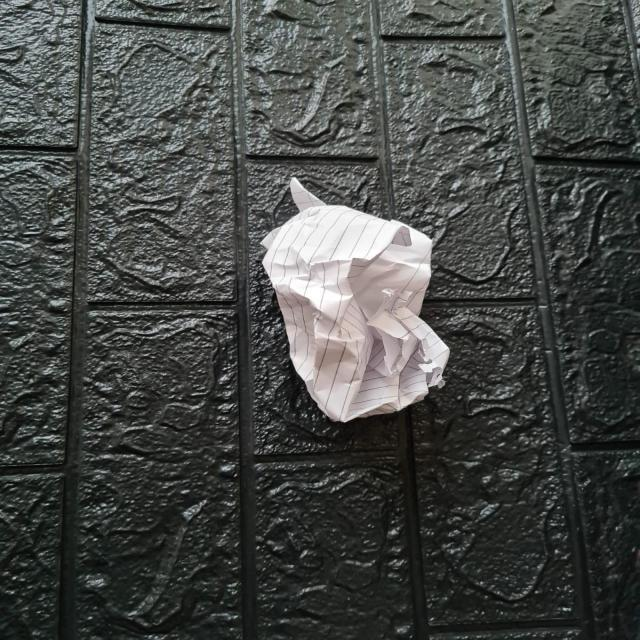trash: (256, 187, 456, 419)
